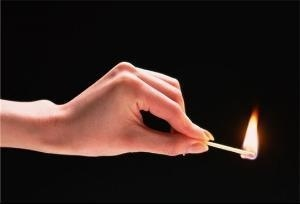fire: (237, 107, 261, 159)
